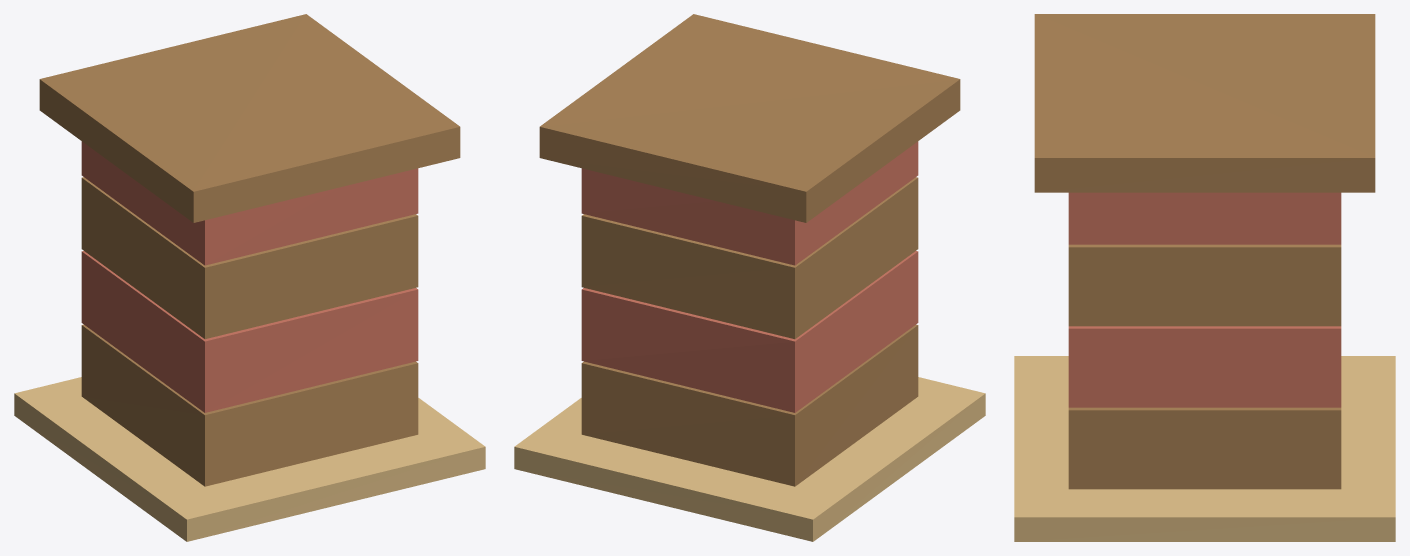
Rendered from Beehive.glb.
The picture shows the model from 3 angles, left to right: view 1: azimuth 30°, elevation 25°; view 2: azimuth 150°, elevation 25°; view 3: azimuth 270°, elevation 25°; orthographic projection. The views are drawn at different scales.
Visible parts, largest first — view 1: beehive-static-beehive-teal, beehive-static-beehive-timber, beehive-static-beehive-flower, beehive-static-beehive-earth; view 2: beehive-static-beehive-teal, beehive-static-beehive-timber, beehive-static-beehive-flower, beehive-static-beehive-earth; view 3: beehive-static-beehive-teal, beehive-static-beehive-timber, beehive-static-beehive-flower, beehive-static-beehive-earth.
Part boxes in pixels (x1,y1,x2,y2): beehive-static-beehive-teal: (39,14,460,222); beehive-static-beehive-timber: (81,177,418,486); beehive-static-beehive-flower: (81,141,418,412); beehive-static-beehive-earth: (14,377,485,541); beehive-static-beehive-teal: (539,14,960,222); beehive-static-beehive-timber: (581,177,918,486); beehive-static-beehive-flower: (581,141,918,412); beehive-static-beehive-earth: (514,377,985,541); beehive-static-beehive-teal: (1034,14,1375,192); beehive-static-beehive-timber: (1068,244,1341,489); beehive-static-beehive-flower: (1068,192,1341,407); beehive-static-beehive-earth: (1014,356,1395,541).
Size of the model in its own units: 1.4 by 1.52 by 1.4.
